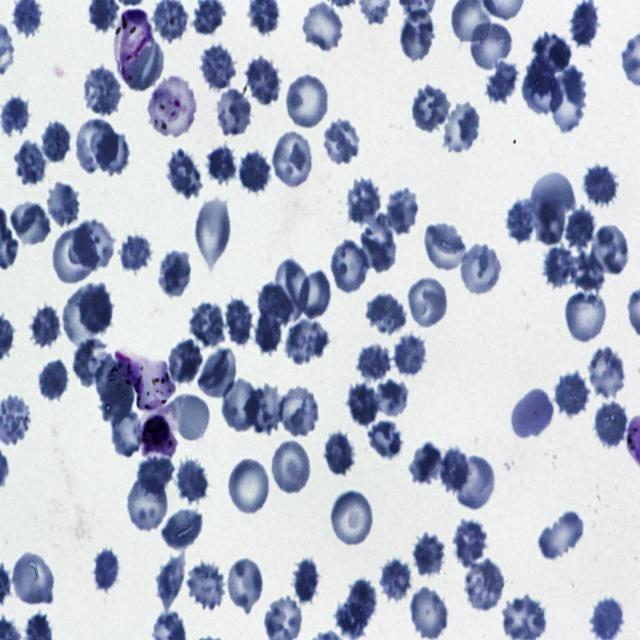difficult: (113, 8, 154, 81)
red blood cell: (95, 352, 135, 427), (328, 488, 376, 550), (194, 195, 232, 268), (284, 72, 331, 131), (550, 60, 587, 134), (10, 549, 56, 608), (226, 456, 271, 515), (75, 116, 118, 176), (276, 384, 322, 439), (451, 453, 496, 509), (53, 228, 98, 284), (299, 0, 345, 54), (511, 386, 556, 441), (272, 132, 315, 189), (522, 57, 564, 115), (564, 288, 608, 343), (407, 274, 450, 330), (528, 171, 576, 221), (586, 344, 628, 400), (538, 509, 588, 556), (590, 222, 632, 277), (271, 439, 312, 495), (398, 8, 439, 64), (464, 558, 506, 612), (284, 316, 329, 366), (80, 64, 124, 115), (63, 281, 97, 347), (225, 557, 265, 613), (460, 242, 502, 295), (122, 37, 163, 91), (422, 222, 466, 272), (127, 477, 167, 532), (364, 288, 408, 338), (184, 560, 228, 610), (73, 217, 115, 269), (219, 380, 260, 433), (409, 586, 449, 640), (274, 258, 310, 318), (169, 392, 211, 443), (410, 81, 452, 132), (243, 384, 285, 435), (442, 100, 481, 154), (9, 199, 52, 247), (330, 239, 368, 293), (156, 550, 188, 612), (199, 350, 238, 400), (392, 329, 430, 380), (198, 41, 236, 92), (244, 56, 282, 107), (384, 184, 422, 235), (69, 339, 111, 385), (214, 88, 256, 134), (470, 22, 510, 70), (76, 283, 112, 336), (361, 222, 399, 272), (44, 180, 82, 230), (595, 396, 630, 450), (583, 161, 621, 210), (189, 301, 227, 350), (167, 337, 205, 386), (11, 139, 48, 188), (259, 282, 296, 330), (346, 380, 382, 429), (376, 558, 414, 604), (569, 248, 606, 295), (157, 249, 191, 300), (322, 430, 358, 478), (29, 304, 65, 352), (166, 149, 201, 198), (563, 204, 598, 253), (109, 410, 143, 460), (37, 355, 73, 402), (530, 32, 571, 73), (452, 518, 487, 566), (345, 179, 385, 221), (296, 269, 331, 317), (95, 131, 131, 177), (174, 459, 209, 506), (409, 438, 443, 486), (136, 456, 176, 496), (162, 510, 203, 549), (238, 150, 272, 197), (324, 119, 360, 163), (347, 576, 378, 627), (556, 372, 590, 418), (412, 531, 446, 577), (291, 556, 321, 608), (366, 419, 404, 460), (116, 234, 153, 275), (542, 244, 574, 291), (570, 1, 602, 48), (356, 342, 392, 383), (486, 59, 519, 103), (40, 119, 72, 164), (505, 200, 537, 245), (440, 446, 470, 494), (224, 295, 252, 346), (536, 198, 567, 244), (0, 95, 32, 139), (91, 548, 121, 594), (206, 144, 238, 187), (377, 378, 411, 418), (253, 310, 283, 354), (334, 602, 368, 640)
schizont: (148, 77, 195, 141)
trophozoite: (113, 347, 176, 412), (138, 414, 179, 457)
